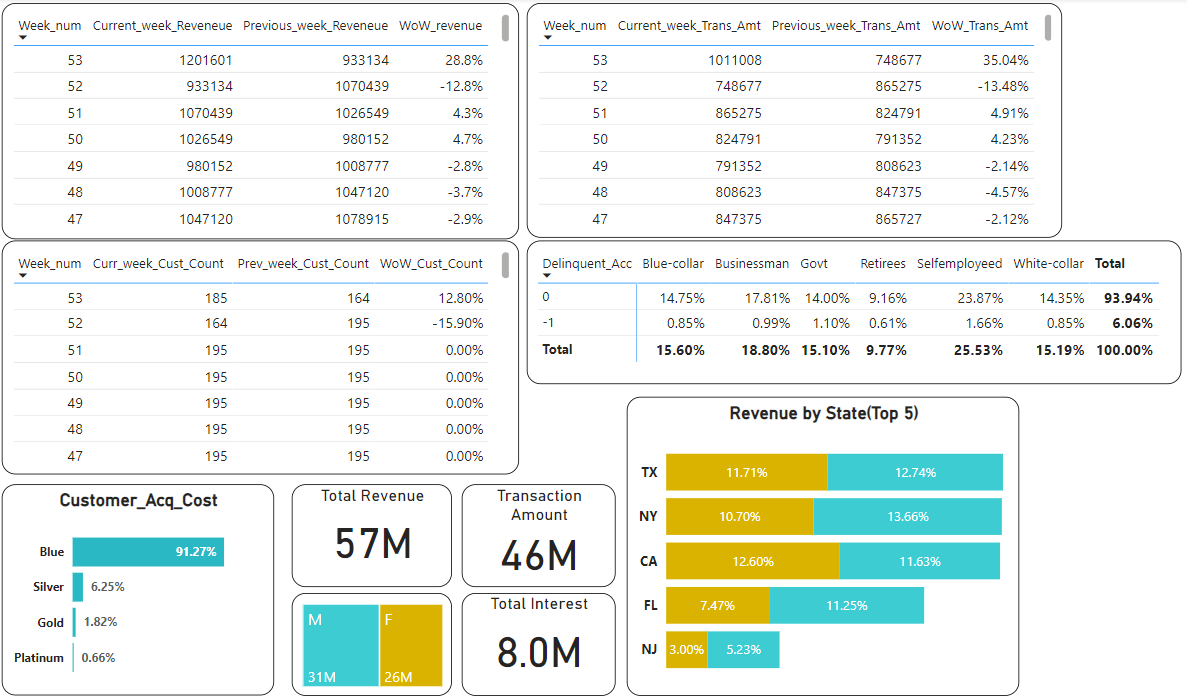

This screenshot's page, from the dashboard's own definition file:
{"tool":"powerbi","page":{"name":"Page 1","canvas":[1280,720],"ordinal":0},"visuals":[{"type":"tableEx","fields":{"Values":["cc_details.Week_num2","cc_details.Current_week_Reveneue","cc_details.Previous_week_Reveneue","cc_details.WoW_revenue"]},"box":[11.5,5.1,527.4,240.8],"z":0},{"type":"tableEx","fields":{"Values":["cc_details.Week_num2","cc_details.Current_week_Trans_Amt","cc_details.Previous_week_Trans_Amt","cc_details.WoW_Trans_Amt"]},"box":[545.2,6.4,545.2,239.5],"z":1000},{"type":"tableEx","fields":{"Values":["cc_details.Week_num2","cc_details.Current_week_Cust_Count","cc_details.Previous_week_Cust_Count","cc_details.WoW_Cust_Count"]},"box":[11.5,247.1,527.4,238.2],"z":2000},{"type":"actionButton","box":[0,0,100,40],"z":3000},{"type":"pivotTable","fields":{"Rows":["cc_details.Delinquent_Acc"],"Values":["Divide(CountNonNull(cc_details.Delinquent_Acc), ScopedEval(CountNonNull(cc_details.Delinquent_Acc), []))"],"Columns":["cust_details.Customer_Job"]},"box":[545.2,247.1,667.5,146.5],"z":4000},{"type":"card","title":"Total Revenue","fields":{"Values":["Sum(cc_details.Revenue)"]},"box":[470.1,498.1,150.3,104.5],"z":5000},{"type":"card","title":"Total Interest","fields":{"Values":["Sum(cc_details.Interest_Earned)"]},"box":[639.5,433.1,159.2,104.5],"z":6000},{"type":"card","title":"Transaction Amount","fields":{"Values":["Sum(cc_details.Total_Trans_Amt)"]},"box":[639.5,569.4,159.2,108.3],"z":7000},{"type":"clusteredBarChart","title":"Customer_Acq_Cost","fields":{"Y":["Sum(cc_details.Customer_Acq_Cost)"],"Category":["cc_details.Card_Category"]},"box":[11.5,494.3,277.7,215.3],"z":8000},{"type":"treemap","fields":{"Group":["cust_details.Gender"],"Values":["Sum(cc_details.Revenue)"]},"box":[300.6,498.1,163.1,104.5],"z":9000},{"type":"barChart","title":"Revenue by State(Top 5)","fields":{"Y":["Sum(cc_details.Revenue)"],"Series":["cust_details.Gender"],"Category":["cust_details.state_cd"]},"box":[852.2,405.1,400,304.5],"z":10000}]}

Visuals, with their boxes on the page's 1280x720 design canvas (x1, y1, x2, y2). These are canvas units, not pixel positions in the 1187x700 screenshot, which may show the page scaled, cropped or inside an application window:
tableEx - cc_details.Week_num2 x cc_details.Current_week_Reveneue: select_region(12, 5, 539, 246)
tableEx - cc_details.Week_num2 x cc_details.Current_week_Trans_Amt: select_region(545, 6, 1090, 246)
tableEx - cc_details.Week_num2 x cc_details.Current_week_Cust_Count: select_region(12, 247, 539, 485)
actionButton: select_region(0, 0, 100, 40)
pivotTable - cc_details.Delinquent_Acc x Divide(CountNonNull(cc_details.Delinquent_Acc), ScopedEval(CountNonNull(cc_details.Delinquent_Acc), [])): select_region(545, 247, 1213, 394)
"Total Revenue" card: select_region(470, 498, 620, 603)
"Total Interest" card: select_region(640, 433, 799, 538)
"Transaction Amount" card: select_region(640, 569, 799, 678)
"Customer_Acq_Cost" clusteredBarChart: select_region(12, 494, 289, 710)
treemap - cust_details.Gender x Sum(cc_details.Revenue): select_region(301, 498, 464, 603)
"Revenue by State(Top 5)" barChart: select_region(852, 405, 1252, 710)
